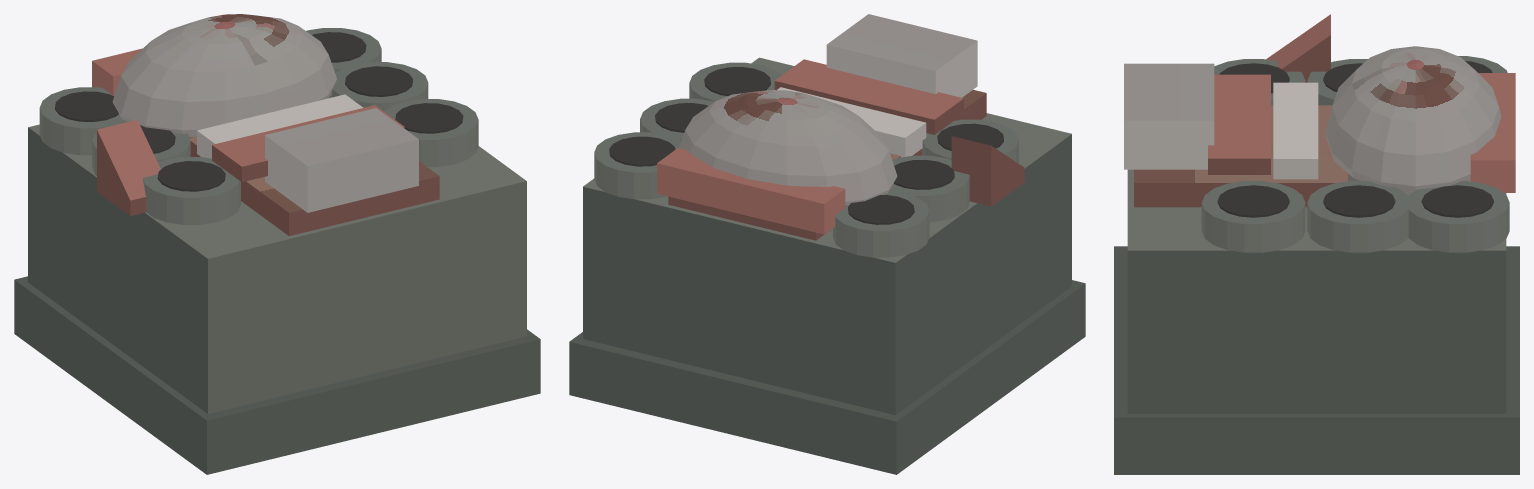
The model's file is Building_AncientRustedEngineBlock__B.glb.
3 renders of one model, left to right at view 1: azimuth 30°, elevation 25°; view 2: azimuth 150°, elevation 25°; view 3: azimuth 270°, elevation 25°, orthographic. The views are drawn at different scales.
Visible parts, largest first — view 1: AncientRustedEngineBlock__B; view 2: AncientRustedEngineBlock__B; view 3: AncientRustedEngineBlock__B.
Boxes of the visible parts, bbox=[...] form: AncientRustedEngineBlock__B: bbox=[14, 14, 540, 474]; AncientRustedEngineBlock__B: bbox=[569, 14, 1085, 474]; AncientRustedEngineBlock__B: bbox=[1114, 14, 1519, 474].
Size of the model in its own units: 0.9187 by 0.79 by 0.9.
1 material, 1 textured.
